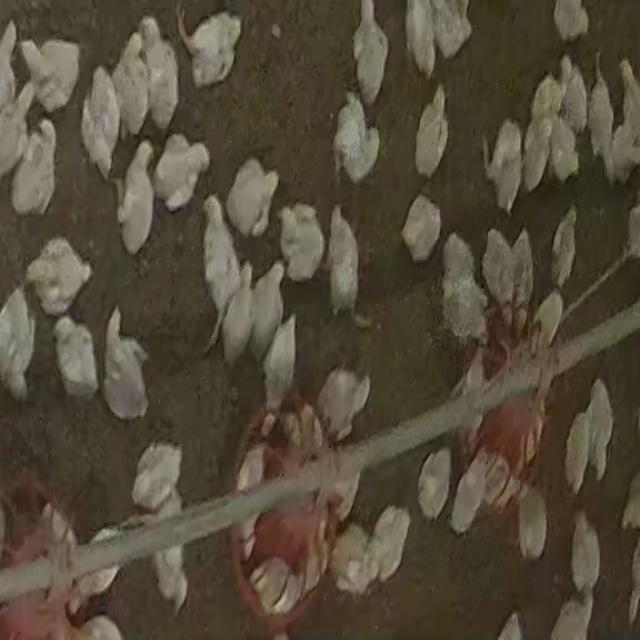chicken: (200, 197, 244, 342), (101, 304, 151, 423), (25, 236, 92, 320), (178, 7, 242, 90), (18, 36, 83, 115), (138, 15, 182, 131), (11, 113, 58, 218), (152, 132, 210, 212), (52, 312, 100, 406), (110, 31, 150, 143), (225, 158, 282, 236), (119, 140, 158, 254), (82, 68, 122, 178), (0, 285, 36, 404), (350, 2, 389, 109), (248, 263, 287, 370), (132, 440, 186, 517), (326, 206, 362, 318), (276, 199, 324, 280), (482, 121, 524, 212), (477, 229, 517, 320), (336, 100, 380, 182), (586, 380, 619, 484), (413, 87, 449, 181), (315, 372, 371, 432), (264, 311, 301, 401), (365, 501, 406, 581), (451, 449, 491, 528), (332, 526, 379, 593), (400, 193, 444, 263), (416, 447, 454, 522), (569, 514, 601, 594), (511, 225, 540, 307), (547, 113, 579, 187), (518, 484, 548, 561), (550, 208, 578, 290), (584, 78, 614, 154), (435, 1, 473, 58), (564, 415, 592, 489)
